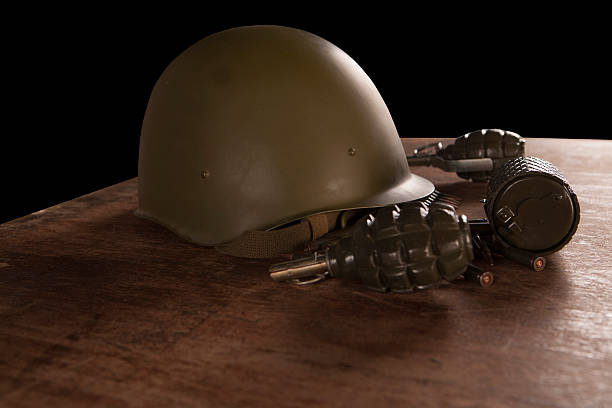e1: (267, 208, 470, 298), (408, 132, 524, 184)
